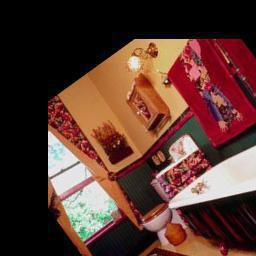Sanitario: (127, 179, 190, 249)
